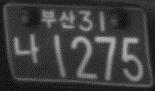1: (48, 35, 68, 77), (95, 11, 108, 31)
2: (70, 35, 97, 79)
3: (77, 9, 93, 31)
5: (121, 36, 143, 82)
7: (94, 36, 116, 81)
나: (12, 33, 39, 63)
부산_O: (39, 8, 76, 29)
